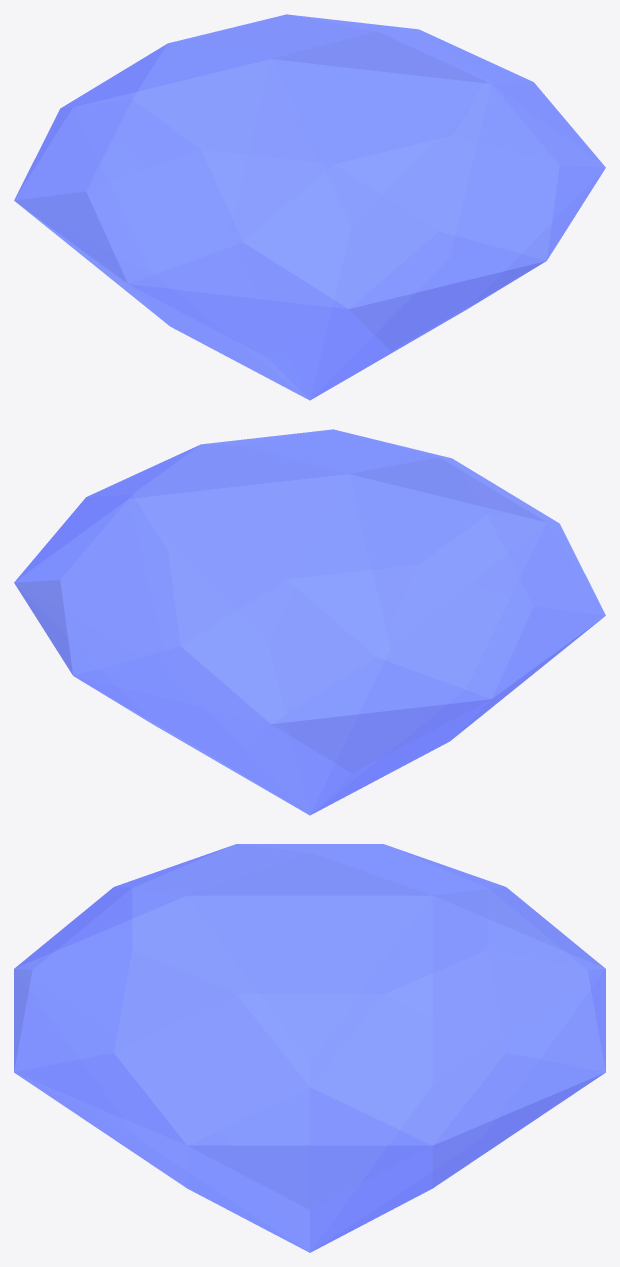
File: gem_blue.glb
3 renders of one model, top to bottom at view 1: azimuth 30°, elevation 25°; view 2: azimuth 150°, elevation 25°; view 3: azimuth 270°, elevation 25°, orthographic. The views are drawn at different scales.
Parts seen in each view (by area): view 1: Gem; view 2: Gem; view 3: Gem.
Boxes of the visible parts, left/top/right/bottom form: Gem: left=14, top=14, right=605, bottom=400; Gem: left=14, top=429, right=605, bottom=815; Gem: left=14, top=844, right=605, bottom=1252.
Size of the model in its own units: 1.35 by 0.8399 by 1.35.
1 material, 1 textured.
